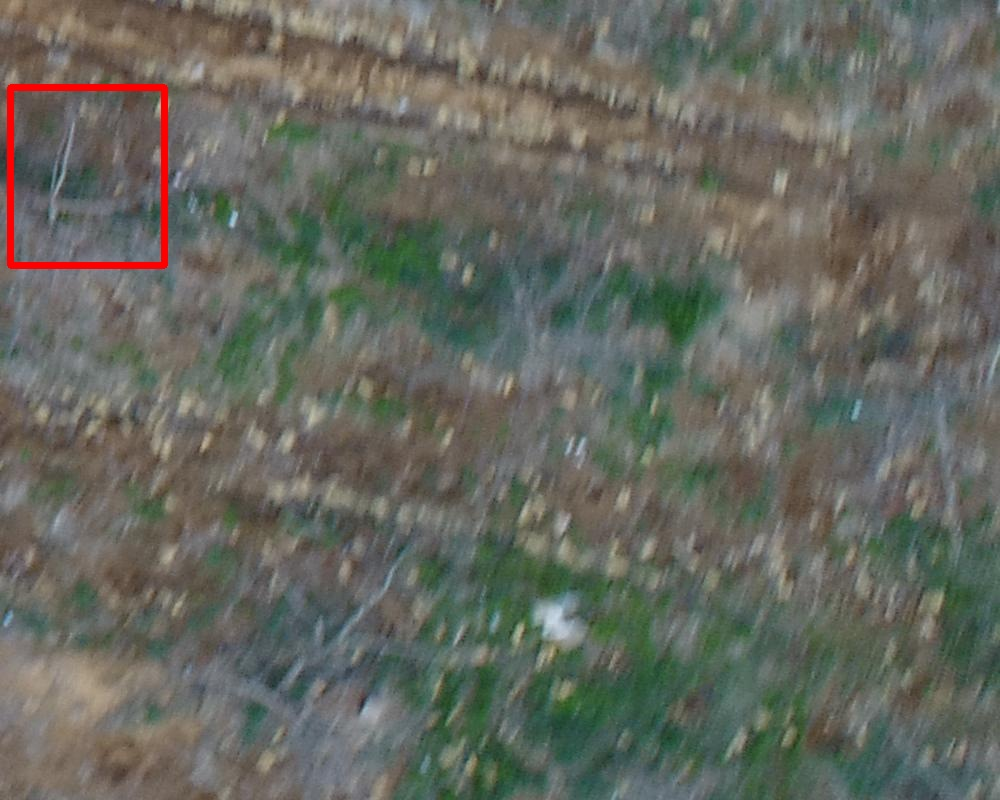apple: (10, 87, 164, 265)
